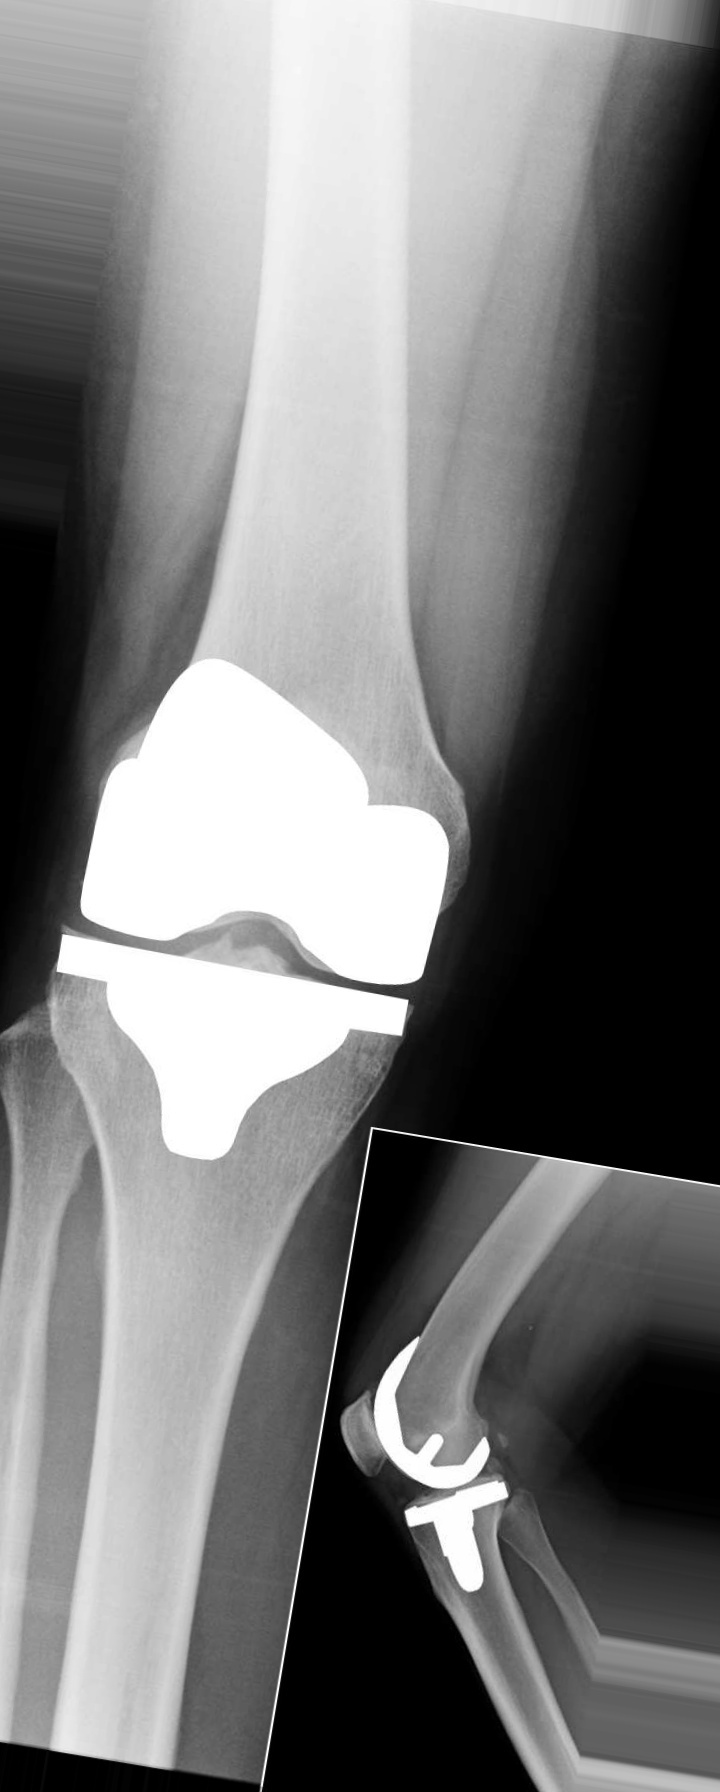Knee-Triathlon-Stryker: (40, 633, 448, 1163), (373, 1342, 512, 1601)
